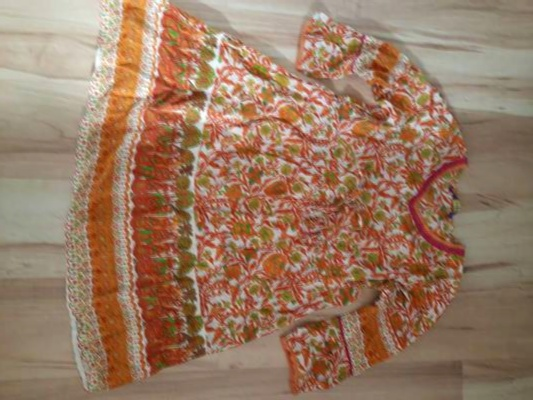Dress: (53, 4, 484, 393)
